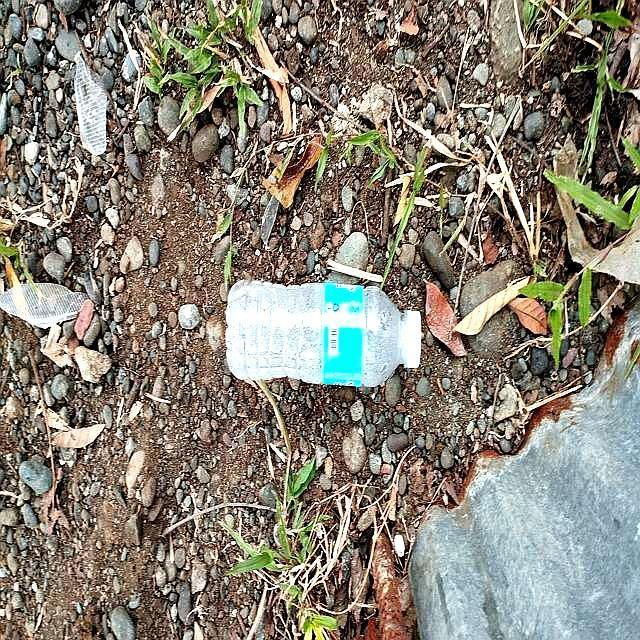Non-biodegradable: (224, 278, 424, 391)
